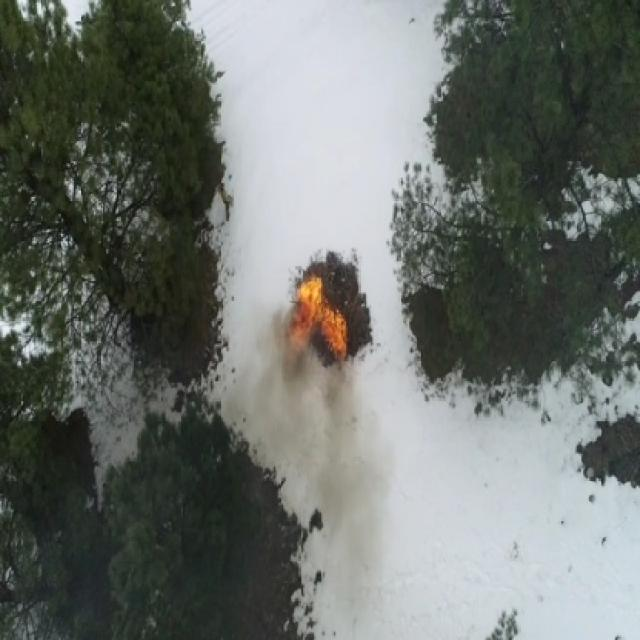Fire: (292, 278, 324, 348), (316, 304, 349, 365)
